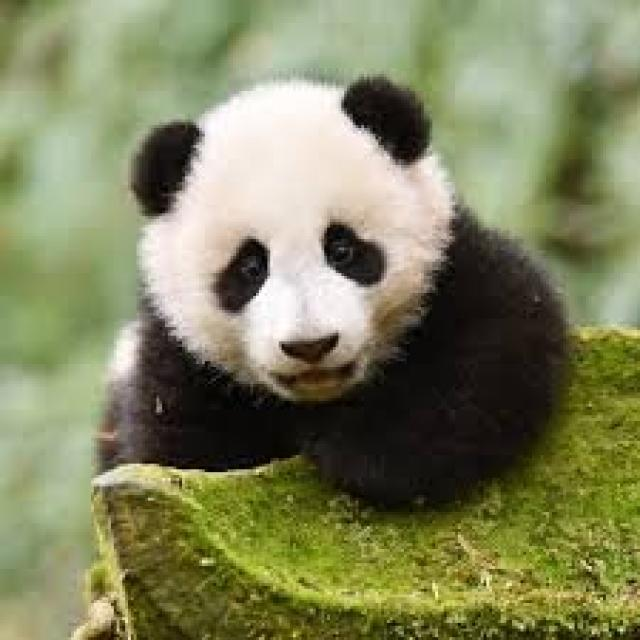Panda: (87, 64, 566, 566)
